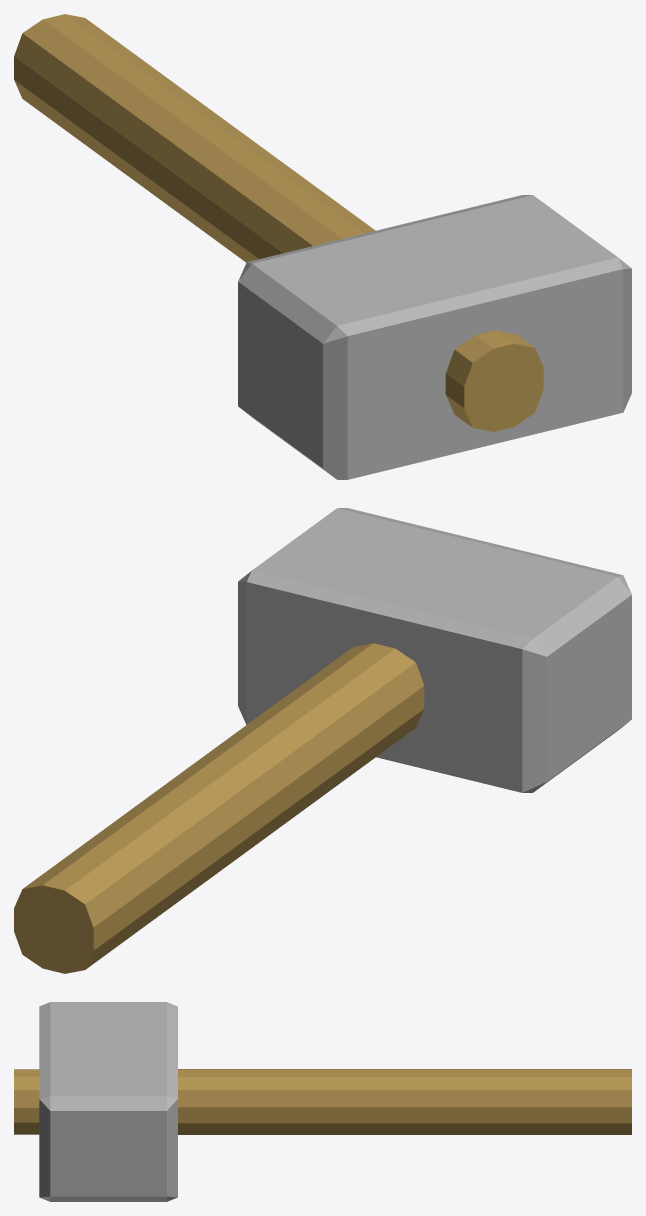
File: hammer.glb
3 views of the same model, one above another, from view 1: azimuth 30°, elevation 25°; view 2: azimuth 150°, elevation 25°; view 3: azimuth 270°, elevation 25° (orthographic). The views are drawn at different scales.
Parts seen in each view (by area): view 1: hammer; view 2: hammer; view 3: hammer.
Boxes of the visible parts, bbox=[...] form: hammer: bbox=[14, 14, 631, 479]; hammer: bbox=[14, 508, 631, 973]; hammer: bbox=[14, 1002, 631, 1201].
Bounding box in the file's own units: 1.94 × 0.9243 × 4.9.
